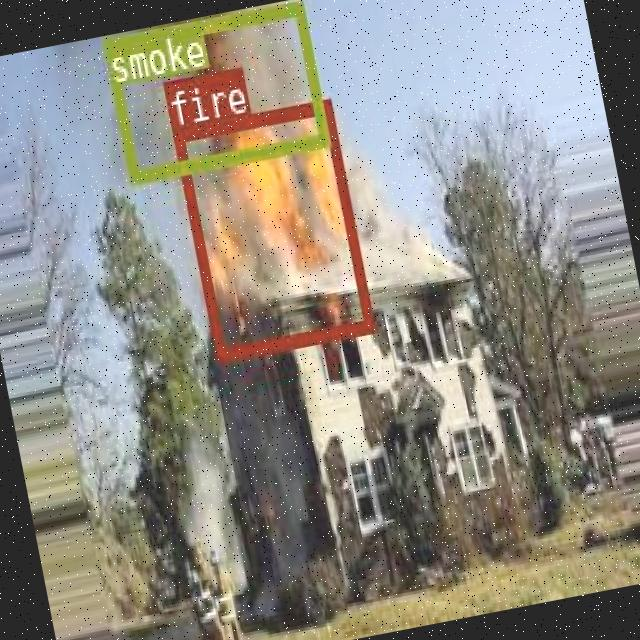fire: (172, 99, 374, 361)
smoke: (101, 0, 328, 182)
